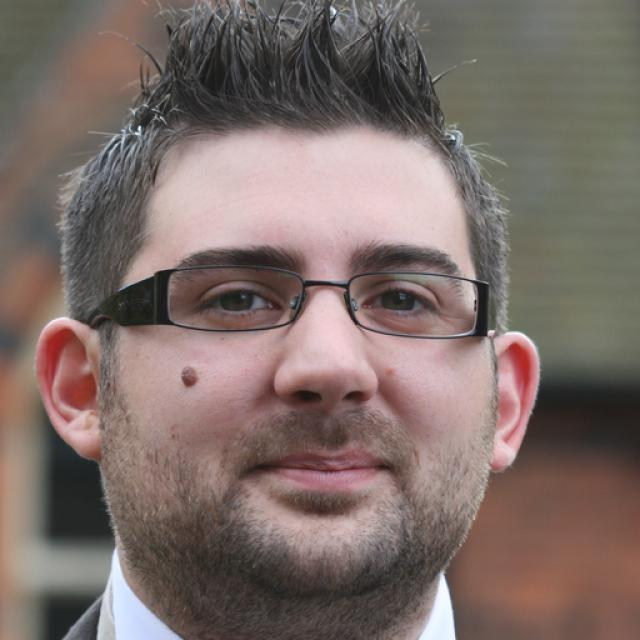Acne: (377, 358, 401, 387), (175, 366, 202, 388)
